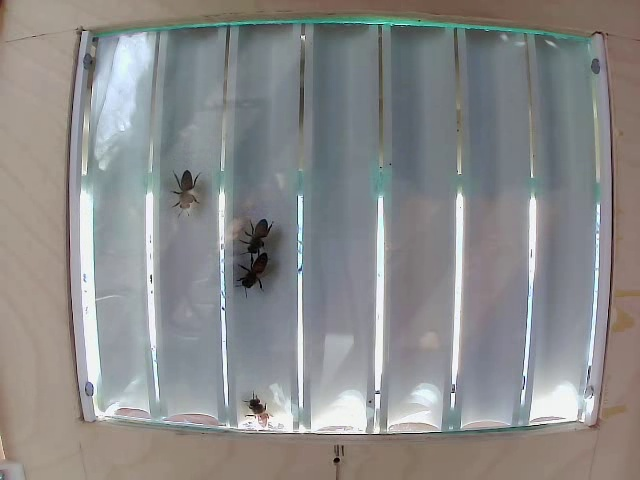bee: (238, 251, 275, 287), (163, 173, 203, 204), (242, 222, 275, 257)
